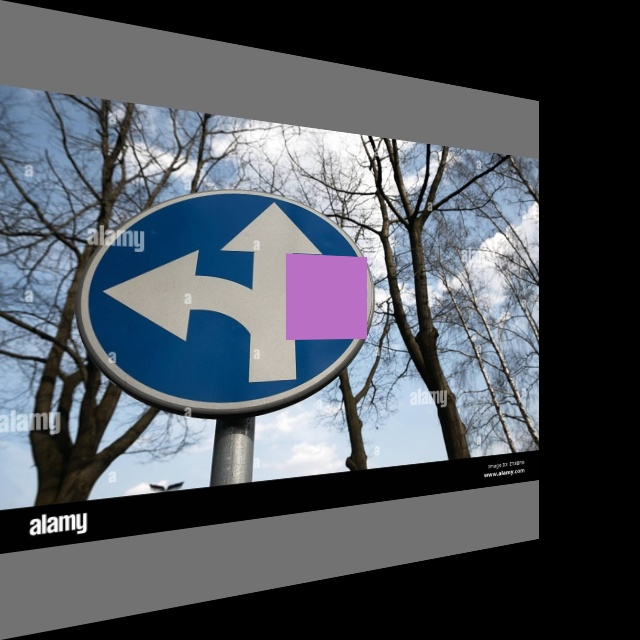Compulsory_Ahead_or_Turn_Left: (69, 170, 372, 421)
